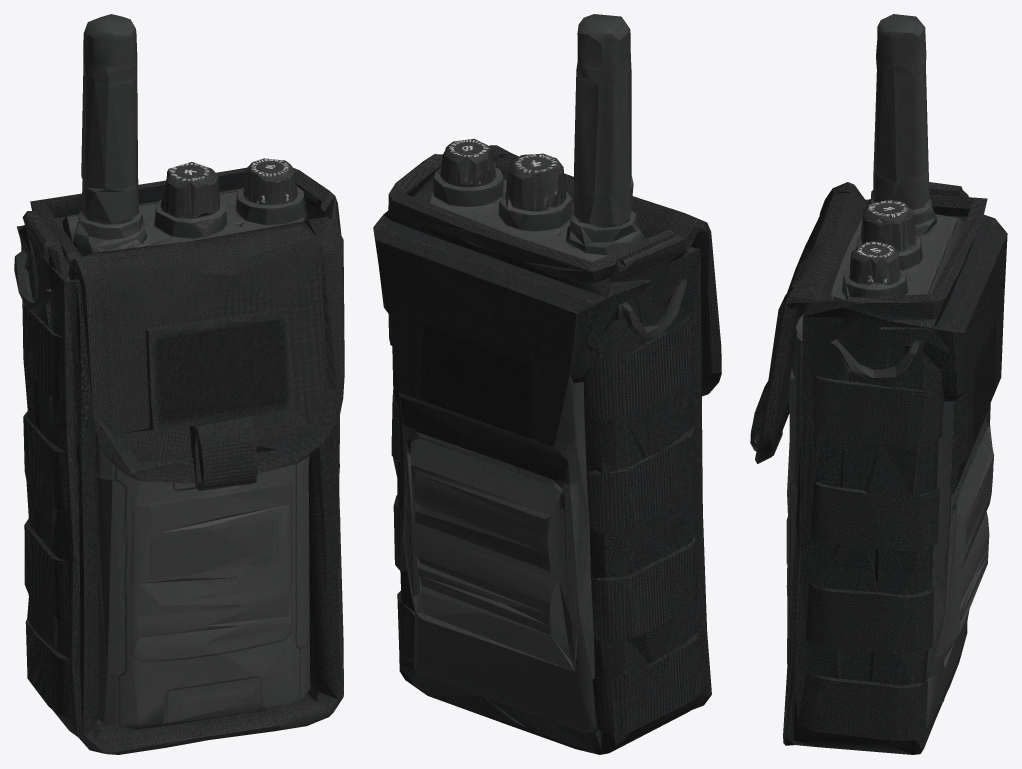
Rendered from radio.glb.
3 views of the same model, side by side, from view 1: azimuth 30°, elevation 25°; view 2: azimuth 150°, elevation 25°; view 3: azimuth 270°, elevation 25° (orthographic). The views are drawn at different scales.
Parts seen in each view (by area): view 1: radio; view 2: radio; view 3: radio.
Part boxes in pixels (<box>): radio: <box>14,14,344,754</box>; radio: <box>373,14,721,754</box>; radio: <box>750,14,1007,754</box>.
Bounding box in the file's own units: 0.0889 × 0.21 × 0.074.
Materials: 1 (1 with a texture image).
